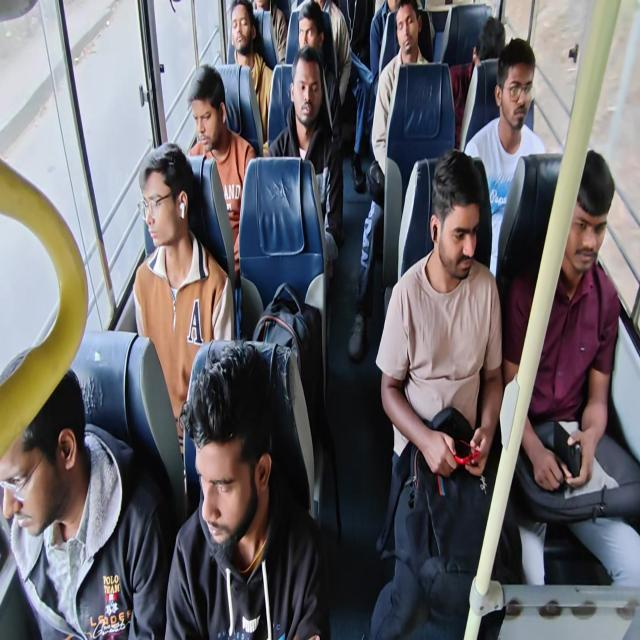person: (404, 170, 531, 367), (0, 381, 95, 604), (190, 298, 266, 541), (551, 130, 639, 268), (146, 139, 190, 288), (495, 38, 544, 152), (464, 5, 512, 82), (180, 55, 232, 124), (226, 0, 273, 76), (346, 1, 385, 86), (289, 19, 344, 76), (279, 78, 316, 134), (404, 4, 424, 76), (374, 1, 412, 30)
